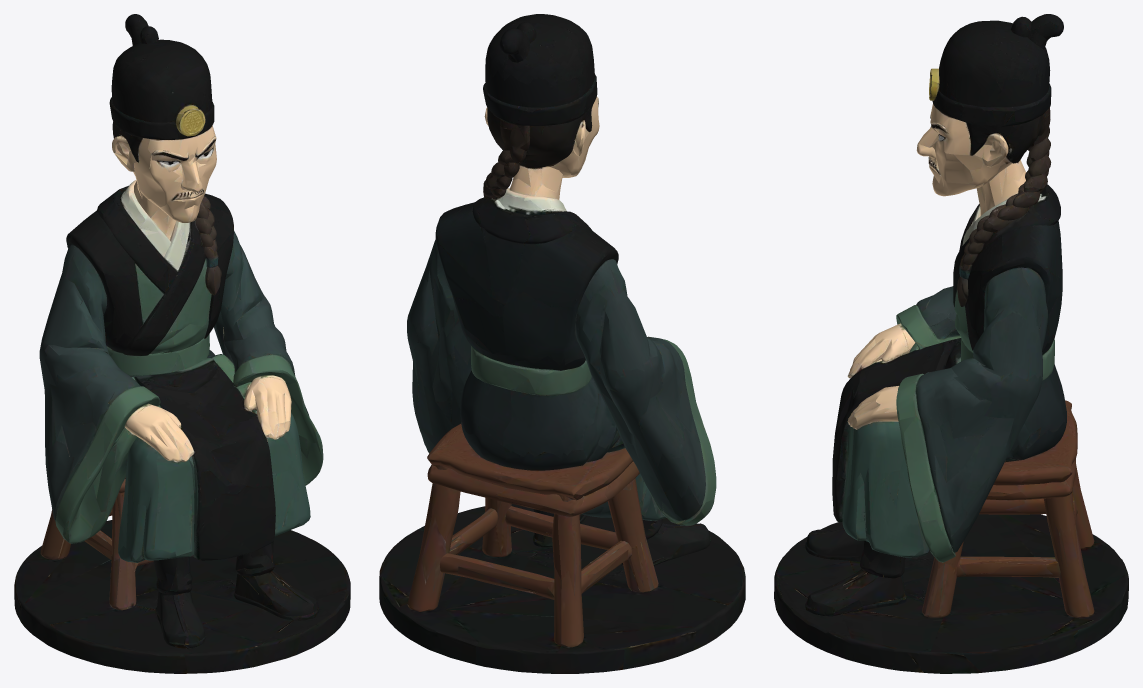
File: longfeng2.glb
The picture shows the model from 3 angles, left to right: view 1: azimuth 30°, elevation 25°; view 2: azimuth 150°, elevation 25°; view 3: azimuth 270°, elevation 25°; orthographic projection. The views are drawn at different scales.
Visible parts, largest first — view 1: Mesh_0; view 2: Mesh_0; view 3: Mesh_0.
Part boxes in pixels (x1=…): Mesh_0: x1=14, y1=14, x2=350, y2=673; Mesh_0: x1=379, y1=14, x2=745, y2=673; Mesh_0: x1=774, y1=14, x2=1128, y2=673.
Size of the model in its own units: 1.05 by 1.9 by 1.05.
1 material, 1 textured.
